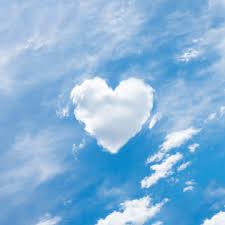sky: (2, 1, 224, 224)
